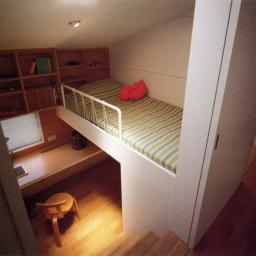Cama: (70, 84, 186, 179)
Escaleras: (70, 234, 186, 255)
Puerta: (190, 1, 255, 250)
